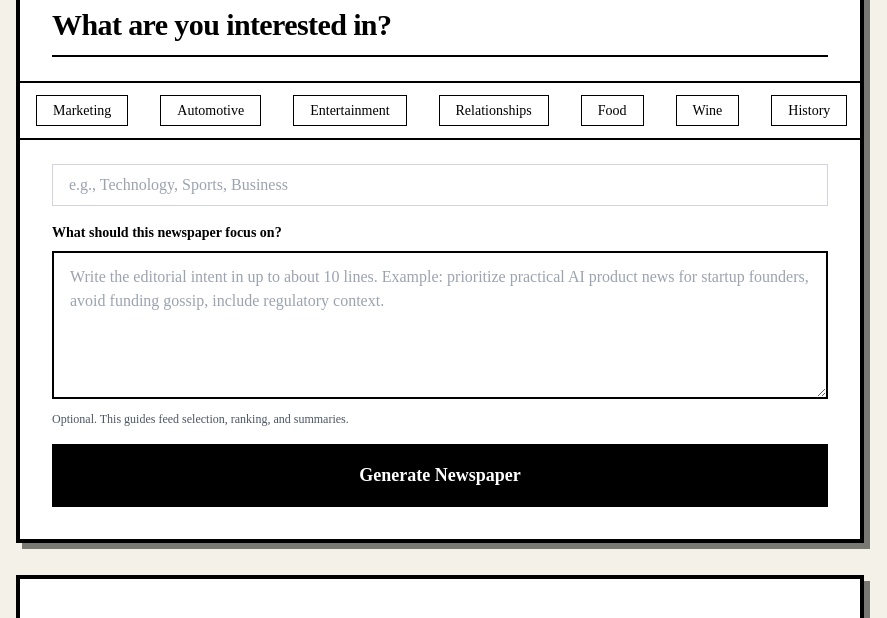
it: Home Page › shows loading animation during generation
This screenshot has width=887, height=618.
Type "Technology" into the field with placeholder "e.g., Technology, Sports, Business". click: (440, 185)
box: [52,164,828,206]
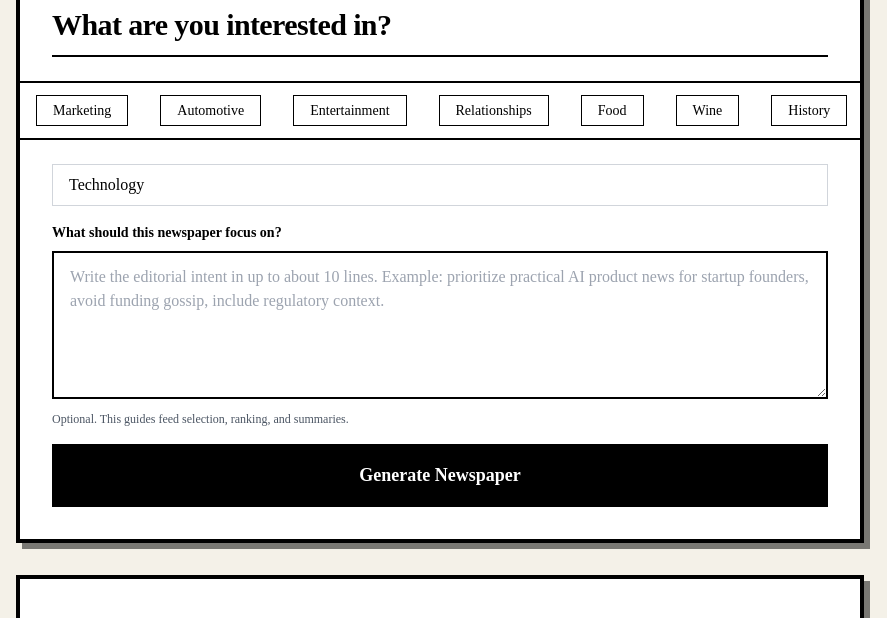
Click the button "Generate Newspaper". click: (440, 476)
box: [52,444,828,507]
(page scrolled)
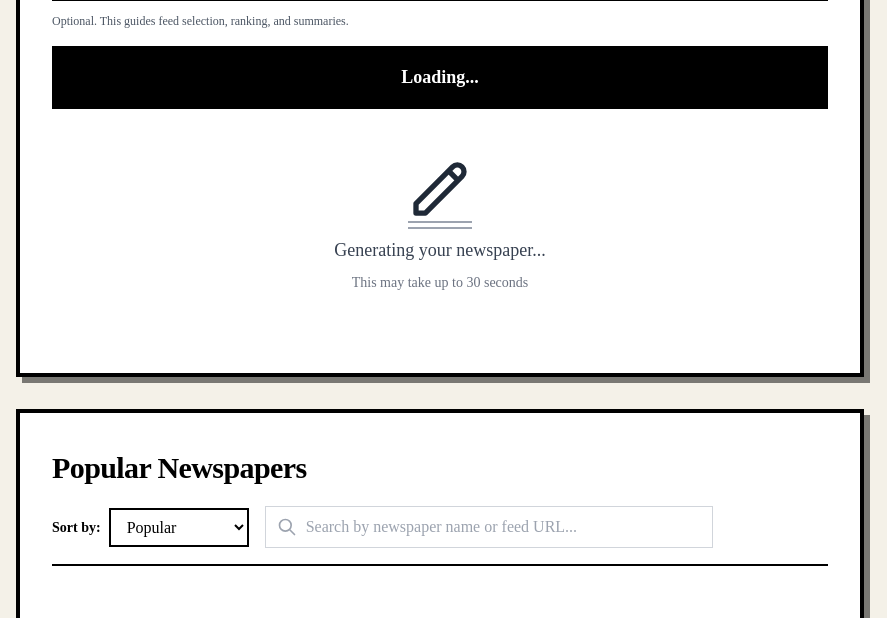
expect the text "Generating your newspaper..." is shown: met, box [334,237,546,264]
